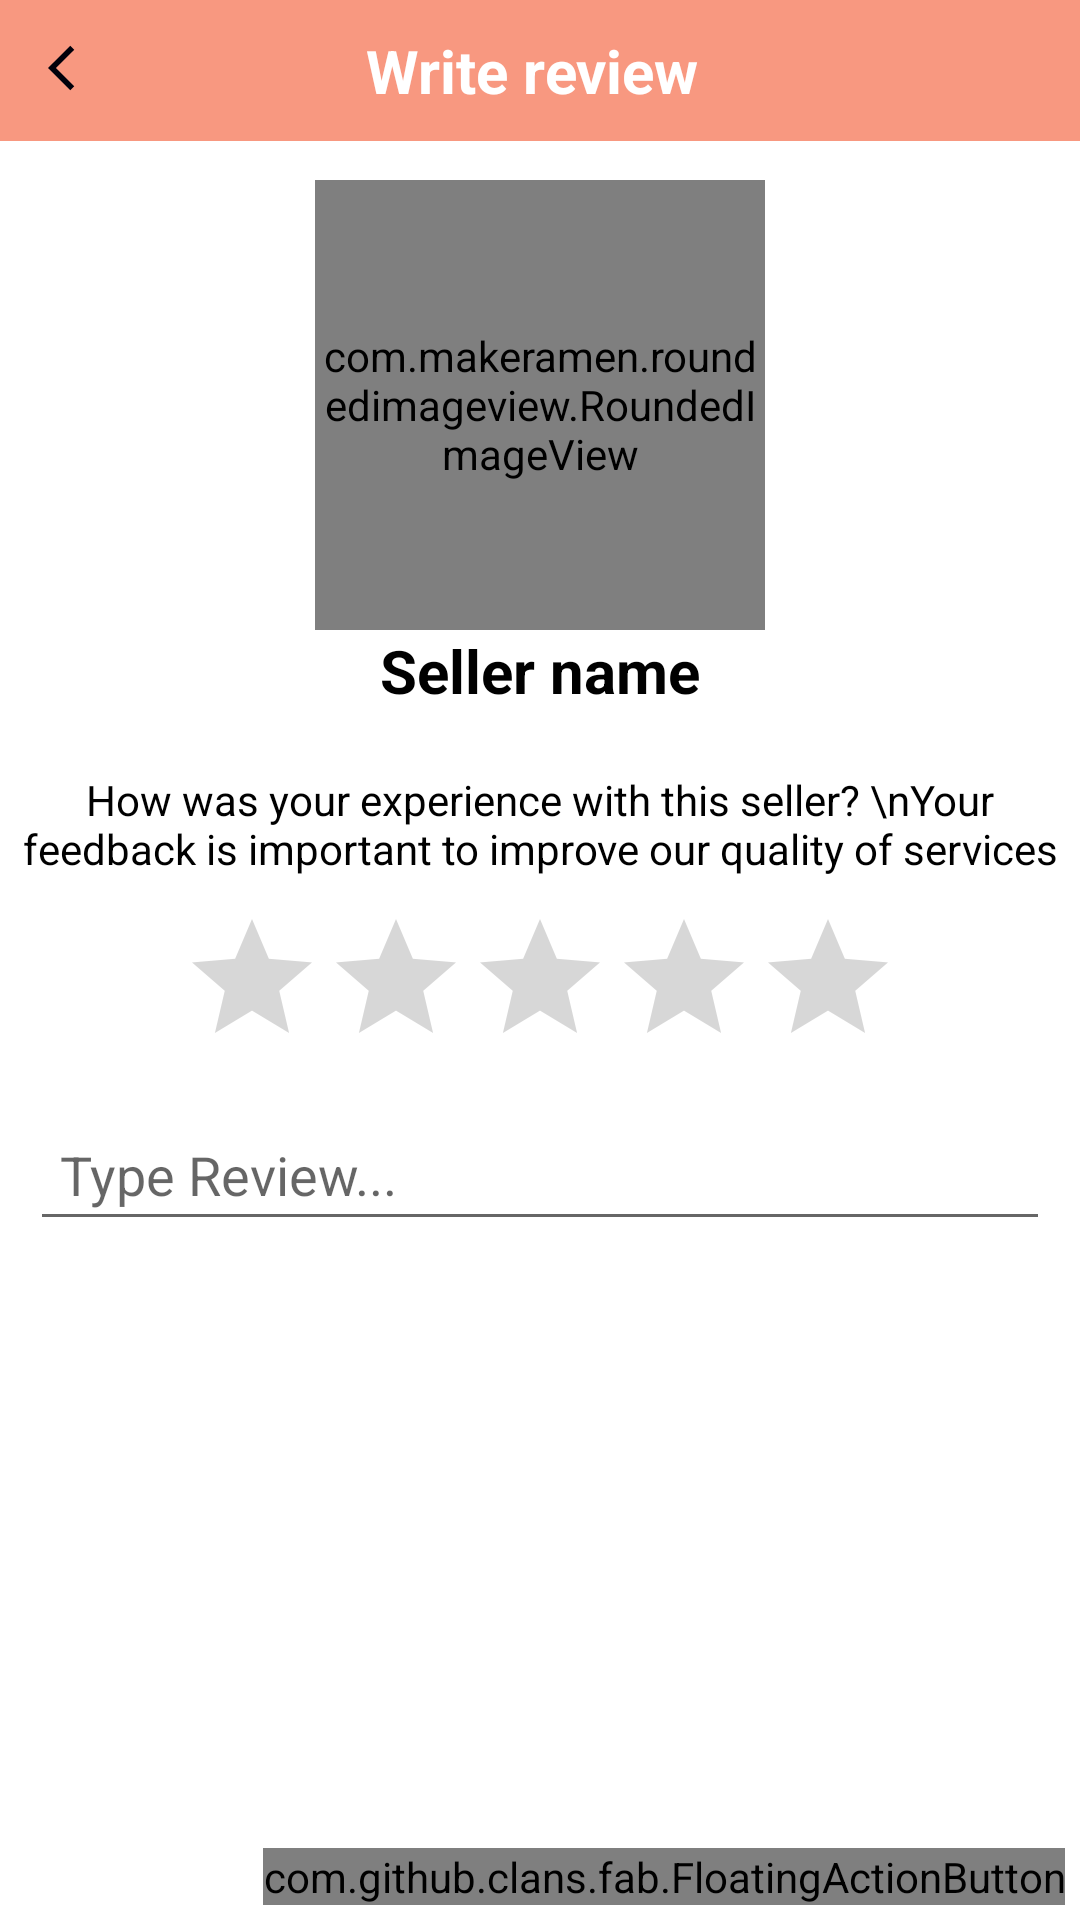

Named icons in this screenshot (1080*1920) and their bounding boxes, (x1, y1, x2, y2):
back: (48, 46, 74, 90)
